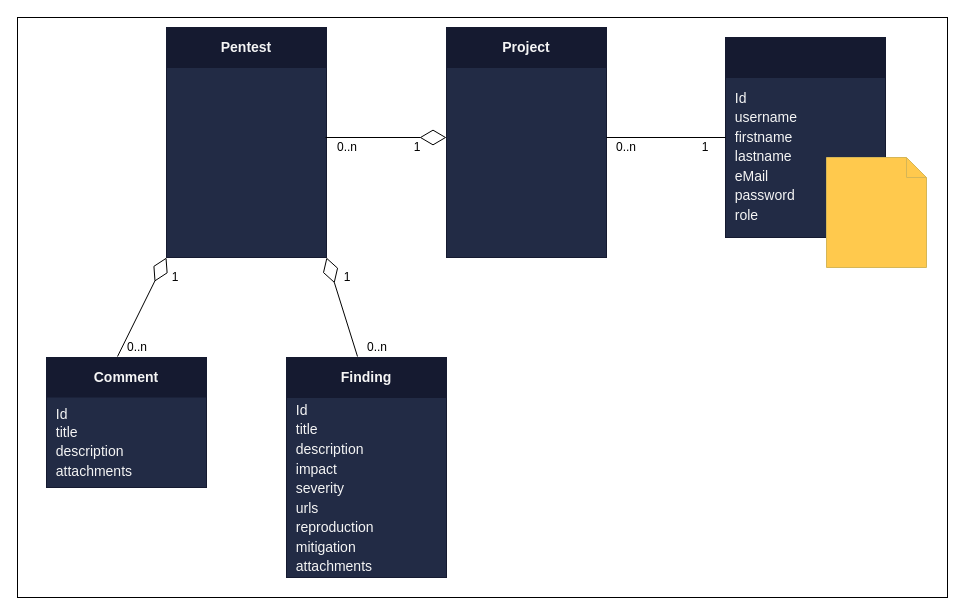
The diagram is 965 pixels wide and 615 high, and some of its shapes have lost their labels. The box of each missing label's shape, as (x1, y1, x2, y2) in pixels:
Id category title refNumber status findingIds commentIds timeSpent enabled: (166, 36, 326, 258)
Id client title tester summary pentestIds createdAt createdBy modifiedAt: (446, 26, 606, 258)
User: (724, 36, 886, 78)
Users are managed in Authentication Server ( KC ): (826, 156, 926, 268)
